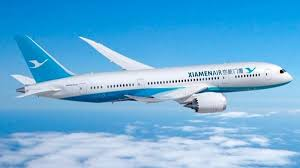maybay_dansu: (15, 27, 294, 119)
